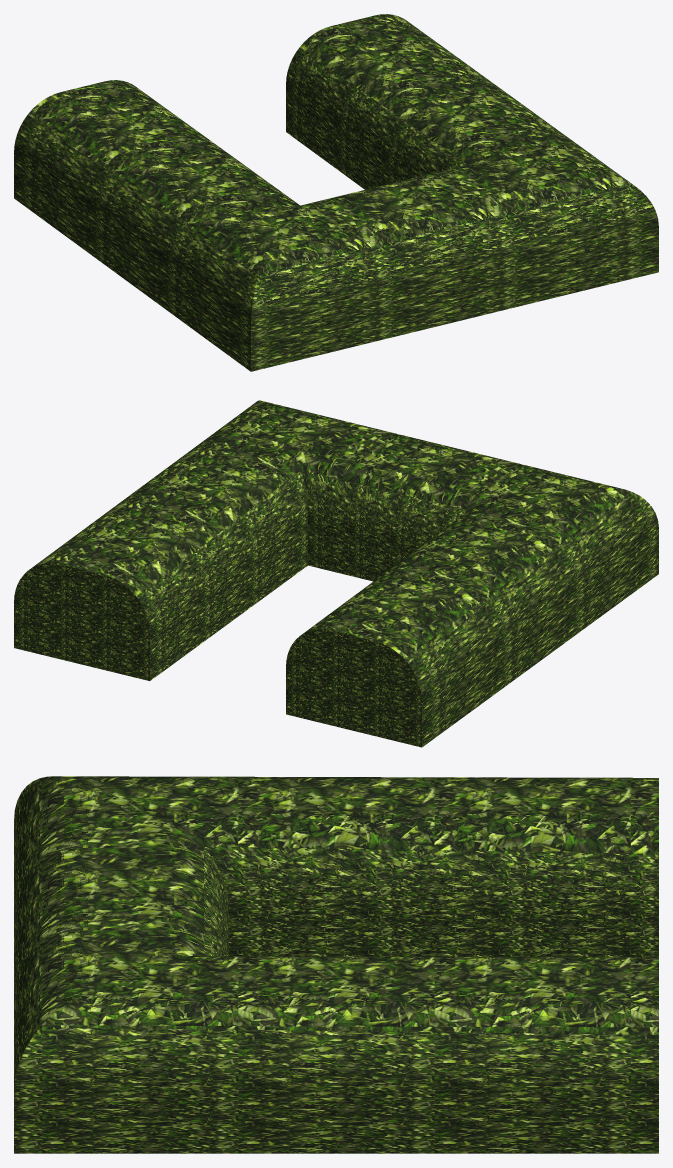
The model's file is Deadend_piece.fbx.
The picture shows the model from 3 angles, top to bottom: view 1: azimuth 30°, elevation 25°; view 2: azimuth 150°, elevation 25°; view 3: azimuth 270°, elevation 25°; orthographic projection. The views are drawn at different scales.
Parts seen in each view (by area): view 1: pCube12; view 2: pCube12; view 3: pCube12.
Boxes of the visible parts, box(x1,y1,x2,y2) form: pCube12: box(14, 14, 658, 371); pCube12: box(14, 400, 658, 747); pCube12: box(14, 776, 658, 1153).
Size of the model in its own units: 9 by 2 by 9.05.
